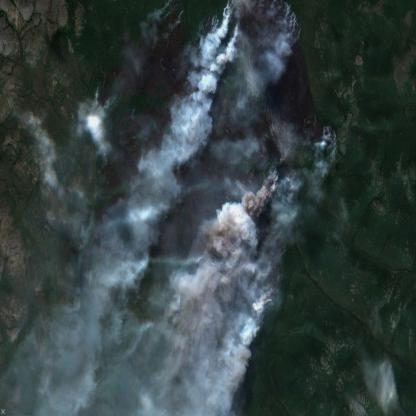fire: (156, 0, 339, 313)
